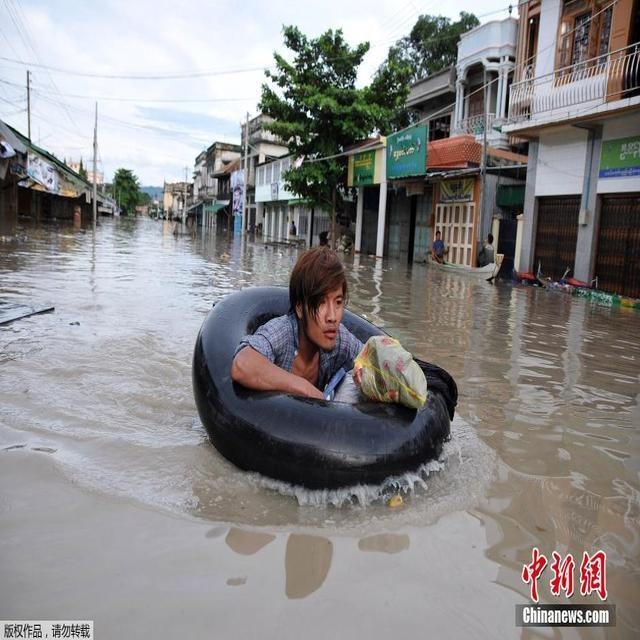Person-RiskLevel3: (228, 243, 448, 432)
